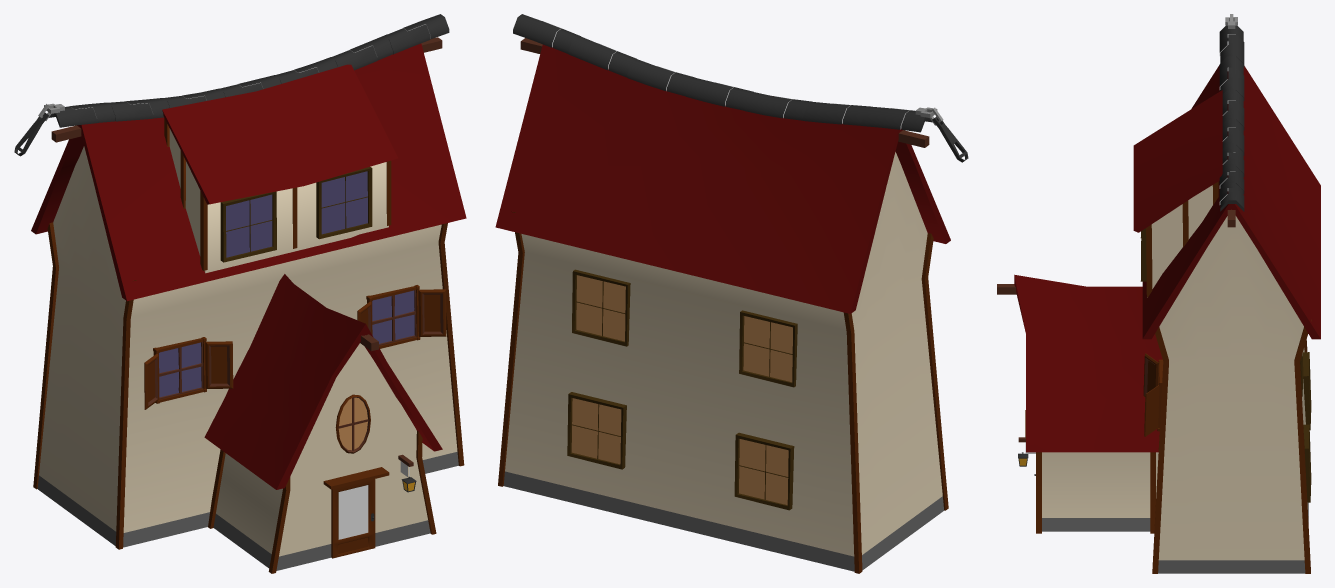
The model's file is HouseVariation.6.fbx.
The picture shows the model from 3 angles, left to right: view 1: azimuth 30°, elevation 25°; view 2: azimuth 150°, elevation 25°; view 3: azimuth 270°, elevation 25°; orthographic projection. The views are drawn at different scales.
Parts seen in each view (by area): view 1: Cube.002, Cube.012, Cube.019, Cube.067, Cube.013, Cube.256, Cube.066, Cube.106, JanelasPequenas.014, JanelasPequenas.023, Janela.042, Janela.043 (+5 smaller); view 2: Cube.002, Cube.012, Cube.256, Cube.106, Janela.011, Janela.029, Janela.007, Janela.006; view 3: Cube.002, Cube.013, Cube.012, Cube.019, Cube.067, Cube.256, Cube.106, Cube.066, JanelasPequenas.023, Cube.076, Janela.029, Janela.011 (+1 smaller).
Part boxes in pixels (x1=…): Cube.002: x1=37, y1=146, x2=458, y2=547; Cube.012: x1=31, y1=43, x2=466, y2=301; Cube.019: x1=213, y1=343, x2=430, y2=570; Cube.067: x1=162, y1=64, x2=397, y2=204; Cube.013: x1=204, y1=274, x2=442, y2=489; Cube.256: x1=14, y1=14, x2=449, y2=156; Cube.066: x1=169, y1=128, x2=388, y2=273; Cube.106: x1=33, y1=222, x2=464, y2=549; JanelasPequenas.014: x1=144, y1=337, x2=233, y2=409; JanelasPequenas.023: x1=357, y1=285, x2=446, y2=348; Janela.042: x1=220, y1=191, x2=276, y2=262; Janela.043: x1=316, y1=167, x2=372, y2=239; Cube.002: x1=503, y1=152, x2=944, y2=571; Cube.012: x1=495, y1=44, x2=950, y2=313; Cube.256: x1=513, y1=14, x2=968, y2=162; Cube.106: x1=498, y1=211, x2=948, y2=573; Janela.011: x1=567, y1=392, x2=626, y2=469; Janela.029: x1=734, y1=432, x2=794, y2=510; Janela.007: x1=739, y1=310, x2=797, y2=387; Janela.006: x1=572, y1=269, x2=630, y2=346; Cube.002: x1=1158, y1=216, x2=1308, y2=573; Cube.013: x1=1014, y1=274, x2=1162, y2=452; Cube.012: x1=1142, y1=65, x2=1320, y2=339; Cube.019: x1=1042, y1=452, x2=1158, y2=531; Cube.067: x1=1133, y1=90, x2=1222, y2=232; Cube.256: x1=1219, y1=14, x2=1244, y2=211; Cube.106: x1=1152, y1=319, x2=1311, y2=573; Cube.066: x1=1147, y1=185, x2=1212, y2=297; JanelasPequenas.023: x1=1143, y1=353, x2=1163, y2=436; Cube.076: x1=1036, y1=452, x2=1155, y2=533; Janela.029: x1=1303, y1=352, x2=1311, y2=430; Janela.011: x1=1303, y1=424, x2=1311, y2=502.
Bounding box in the file's own units: 1602 × 1511 × 1134.
